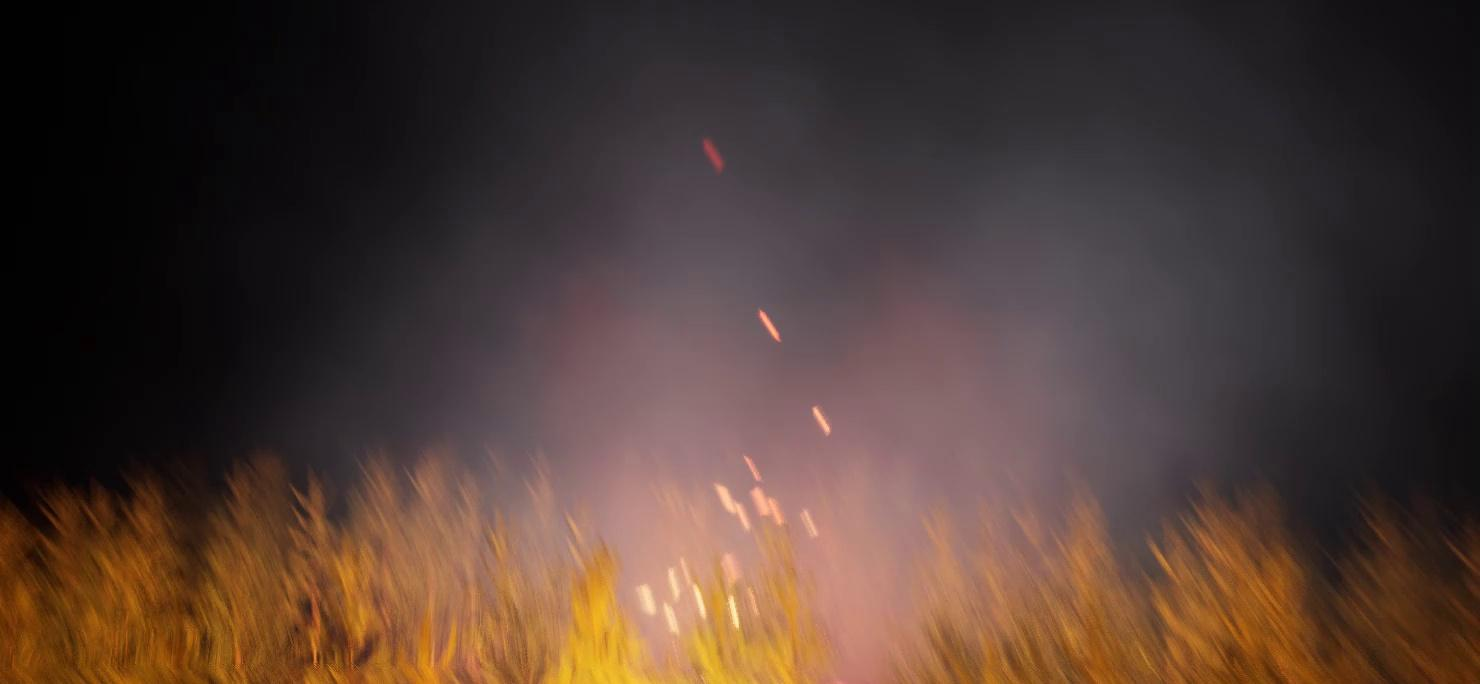fire: (636, 289, 848, 632)
smoke: (374, 17, 1347, 683)
